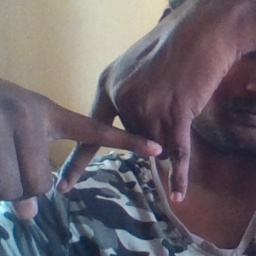H: (57, 86, 202, 207)
